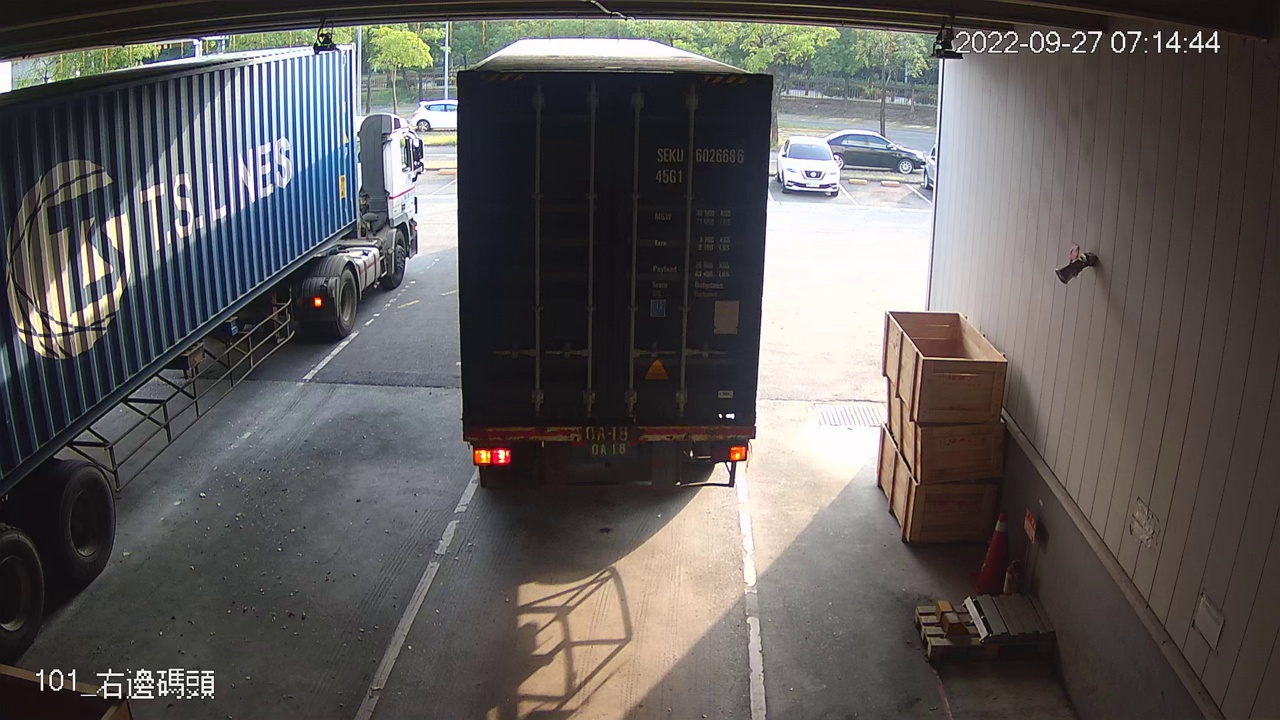container: (648, 142, 747, 189)
